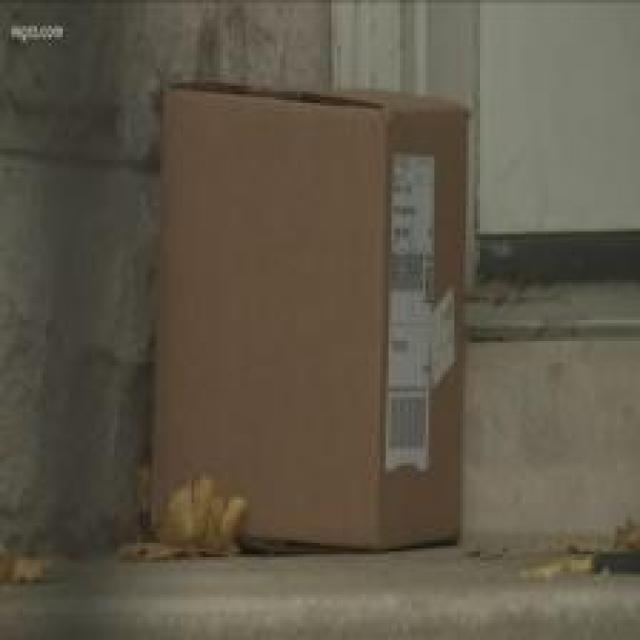box: (159, 80, 463, 556)
